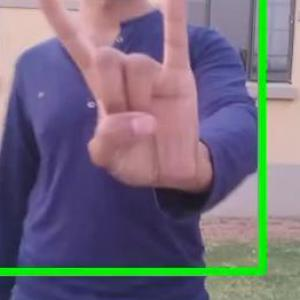takeoff-hand: (27, 0, 189, 193)
